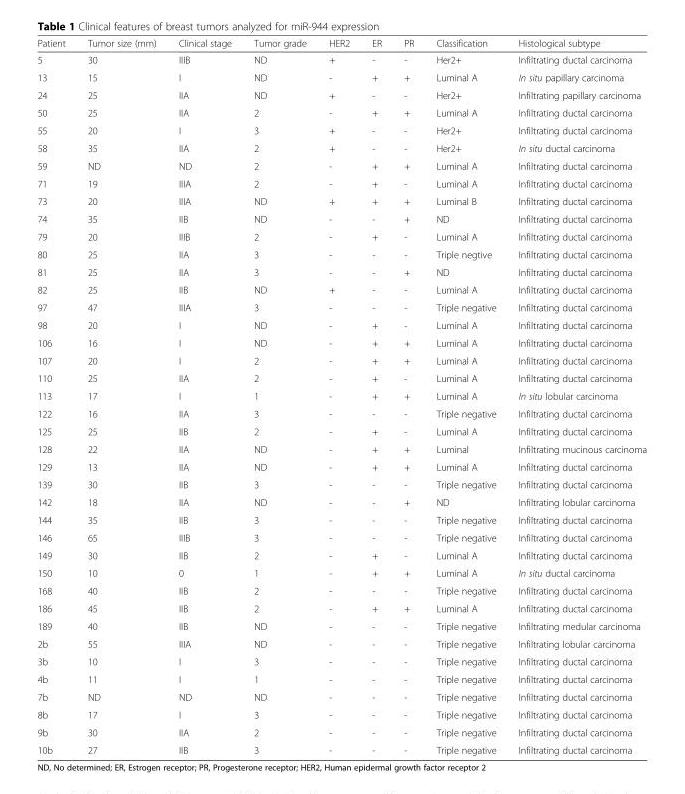table: (36, 37, 646, 755)
table column: (506, 37, 646, 755), (75, 37, 166, 755), (424, 37, 506, 755), (166, 37, 242, 755), (242, 37, 317, 755), (317, 37, 360, 755), (36, 37, 75, 755), (360, 37, 392, 755), (392, 37, 424, 755)
table column header: (36, 37, 646, 51)
table row: (36, 85, 646, 103), (36, 103, 646, 121), (36, 121, 646, 139), (36, 156, 646, 174), (36, 174, 646, 192), (36, 209, 646, 227), (36, 227, 646, 245), (36, 262, 646, 280), (36, 280, 646, 298), (36, 298, 646, 316), (36, 333, 646, 351), (36, 351, 646, 369), (36, 386, 646, 404), (36, 404, 646, 422), (36, 439, 646, 457), (36, 457, 646, 475), (36, 475, 646, 493), (36, 510, 646, 528), (36, 528, 646, 546), (36, 563, 646, 581), (36, 581, 646, 599), (36, 616, 646, 634), (36, 634, 646, 652), (36, 652, 646, 670), (36, 687, 646, 705), (36, 705, 646, 723), (36, 51, 646, 68), (36, 68, 646, 85), (36, 139, 646, 156), (36, 192, 646, 209), (36, 245, 646, 262), (36, 316, 646, 333), (36, 369, 646, 386), (36, 422, 646, 439), (36, 493, 646, 510), (36, 546, 646, 563), (36, 599, 646, 616), (36, 670, 646, 687), (36, 723, 646, 740), (36, 740, 646, 755), (36, 37, 646, 51)
